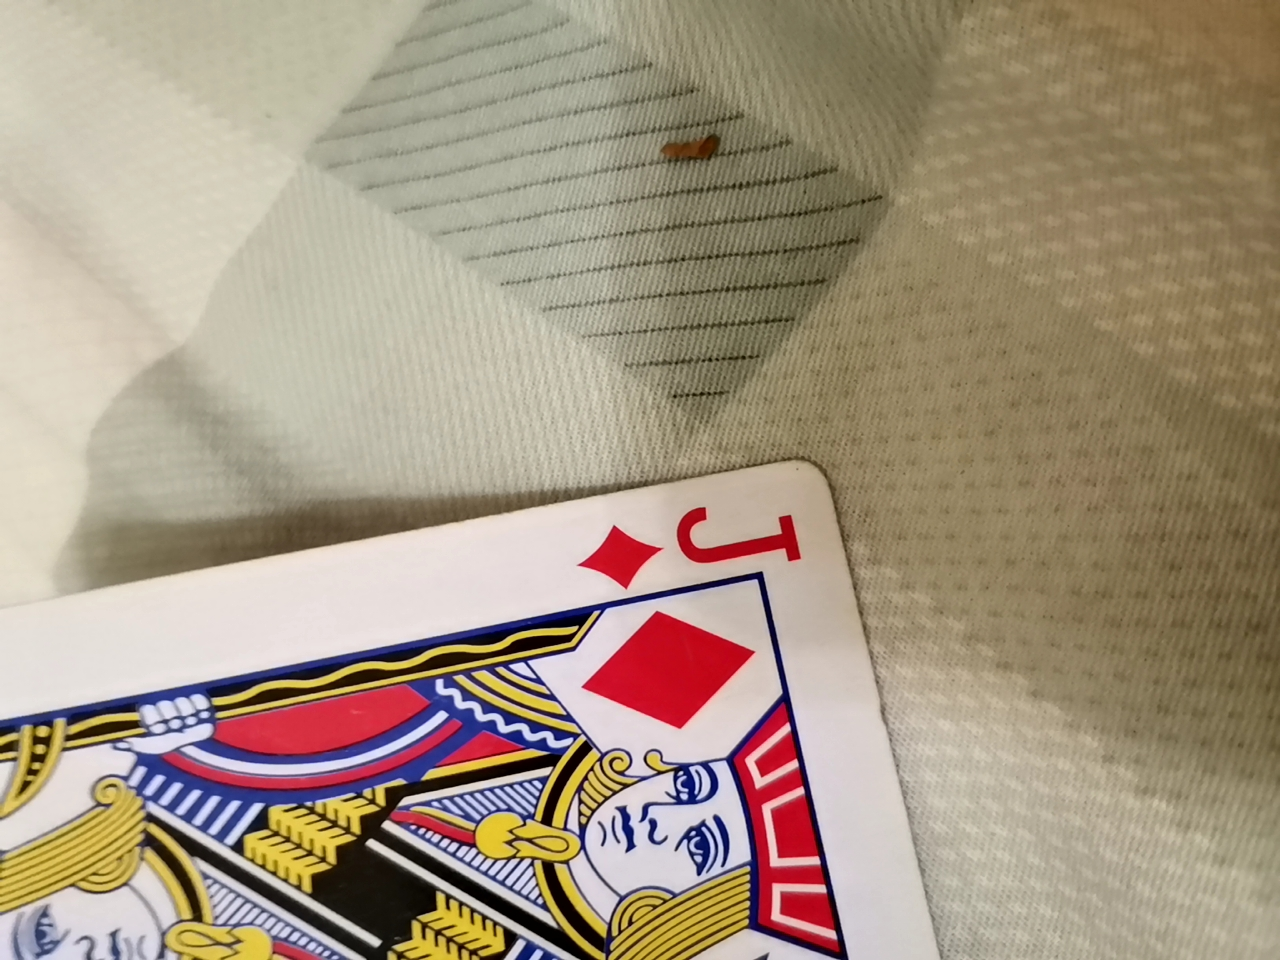fk j: (5, 456, 1003, 956)
